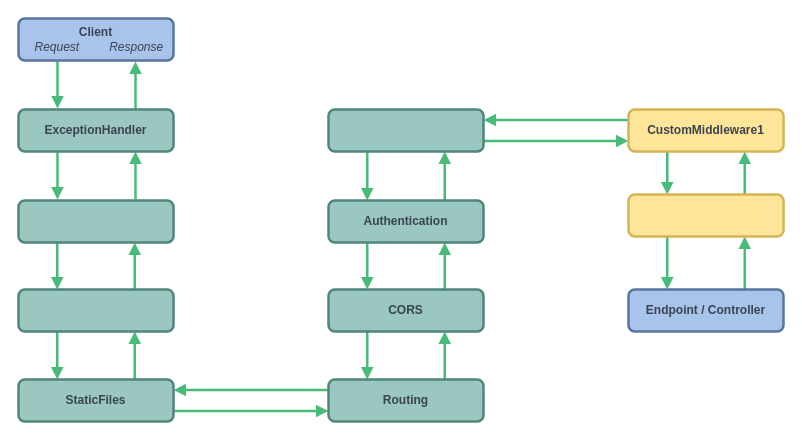
Image size: 802x440. Some labels were removed from this diagram. Each missing label, with the centre of its shape:
"Authorization" goes at point 405,130.
"CustomMiddleware2" goes at point 705,215.
"HSTS" goes at point 95,221.
"HttpsRedirection" goes at point 95,310.
